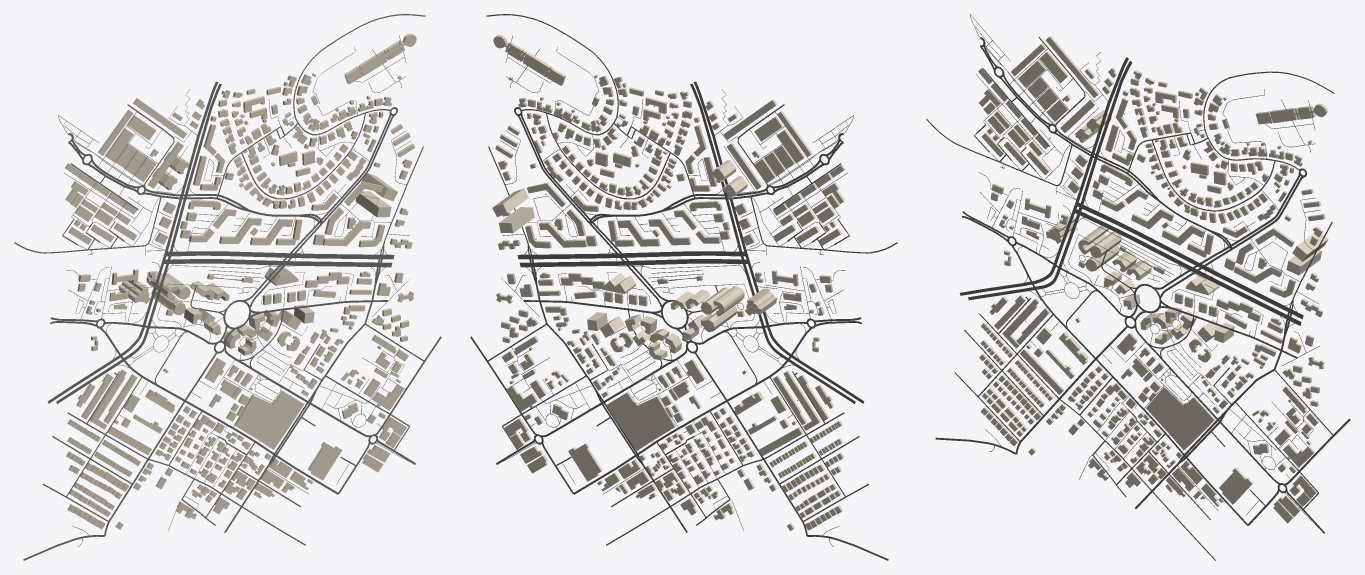
File: historic-palestine-06_18_3478_3124.glb
3 renders of one model, left to right at view 1: azimuth 30°, elevation 25°; view 2: azimuth 150°, elevation 25°; view 3: azimuth 330°, elevation 25°, orthographic.
Visible parts, largest first — view 1: Building_.488, Building_.006, Building_.484, Building_.075, Building_.323; view 2: Building_.488, Building_.006, Building_.484, Building_.075, Building_.482, Building_.323, Building_.318; view 3: Building_.488, Building_.006, Building_.484, Building_.046.
Part boxes in pixels (box(x1,y1,x2,y2)): Building_.488: box(234, 390, 304, 449); Building_.006: box(344, 33, 416, 84); Building_.484: box(307, 442, 341, 480); Building_.075: box(355, 191, 391, 217); Building_.323: box(89, 369, 126, 429); Building_.488: box(606, 391, 676, 450); Building_.006: box(493, 35, 565, 85); Building_.484: box(569, 443, 602, 481); Building_.075: box(499, 207, 534, 233); Building_.482: box(745, 288, 777, 315); Building_.323: box(783, 370, 820, 430); Building_.318: box(713, 286, 744, 316); Building_.488: box(1146, 386, 1215, 450); Building_.006: box(1255, 103, 1327, 124); Building_.484: box(1219, 467, 1250, 504); Building_.046: box(1045, 36, 1099, 97).
Bounding box in the file's own units: 1202 × 1368 × 113.
